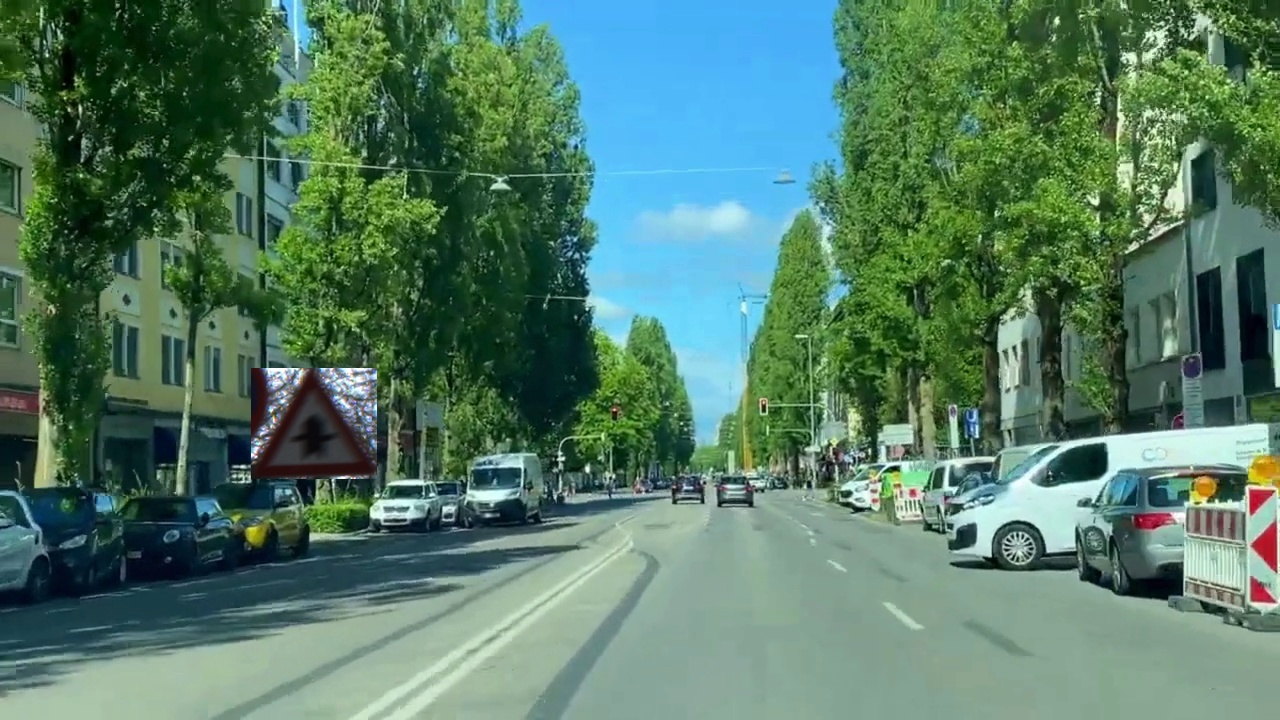Right-of-way: (251, 368, 377, 479)
